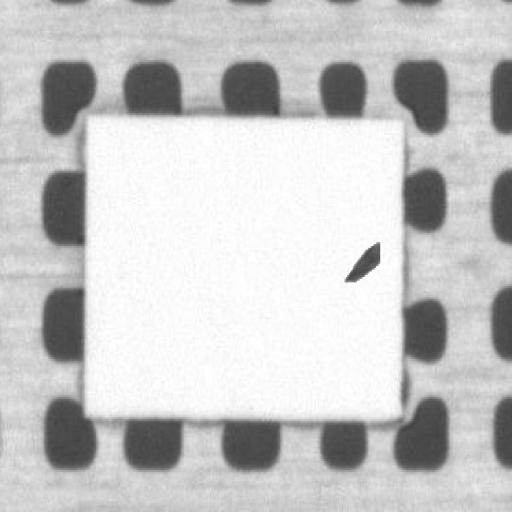DIE_INK: (343, 237, 379, 280)
